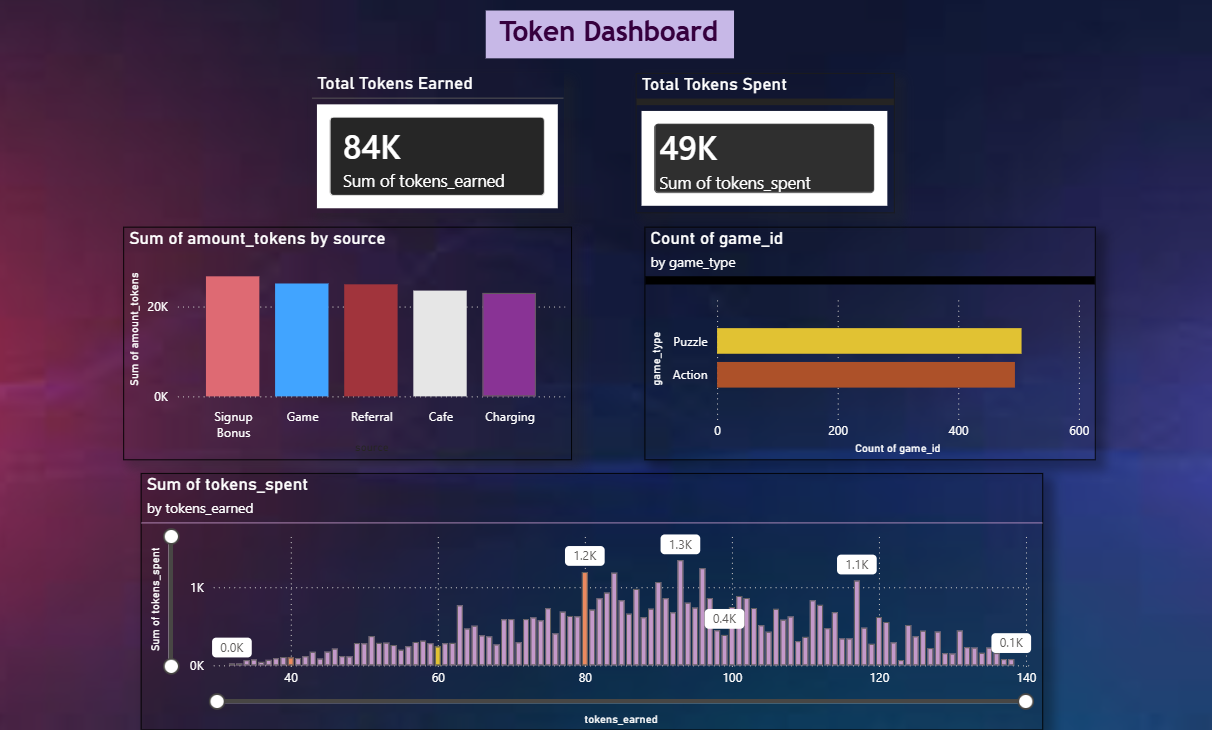

The dashboard page shown, as its layout file describes it:
{"tool":"powerbi","page":{"name":"Token Dashboard","canvas":[1280,720],"ordinal":1},"visuals":[{"type":"cardVisual","title":"Total Tokens Earned","fields":{"Data":["Sum(Games.tokens_earned)"]},"box":[334.6,82.4,243.7,135.8],"z":0},{"type":"clusteredColumnChart","fields":{"Category":["Games.tokens_earned"],"Y":["Sum(Games.tokens_spent)"]},"box":[168.5,470.4,875.3,249.7],"z":1000},{"type":"clusteredColumnChart","fields":{"Category":["Wallet.source"],"Y":["Sum(Wallet.amount_tokens)"]},"box":[151.5,231.6,435.2,226.7],"z":2000},{"type":"clusteredBarChart","fields":{"Category":["Games.game_type"],"Y":["CountNonNull(Games.game_id)"]},"box":[657.1,231.6,437.7,226.7],"z":3000},{"type":"textbox","box":[502.6,22,240.9,46.5],"z":4000},{"type":"cardVisual","title":"Total Tokens Spent","fields":{"Data":["Sum(Games.tokens_spent)"]},"box":[648.6,82.4,251,135.8],"z":5000}]}

Visuals, with their boxes on the page's 1280x720 design canvas (x1, y1, x2, y2). These are canvas units, not pixel positions in the 1212x730 screenshot, which may show the page scaled, cropped or inside an application window:
"Total Tokens Earned" cardVisual: bbox=[335, 82, 578, 218]
clusteredColumnChart - Games.tokens_earned x Sum(Games.tokens_spent): bbox=[168, 470, 1044, 720]
clusteredColumnChart - Wallet.source x Sum(Wallet.amount_tokens): bbox=[152, 232, 587, 458]
clusteredBarChart - Games.game_type x CountNonNull(Games.game_id): bbox=[657, 232, 1095, 458]
textbox: bbox=[503, 22, 744, 68]
"Total Tokens Spent" cardVisual: bbox=[649, 82, 900, 218]
